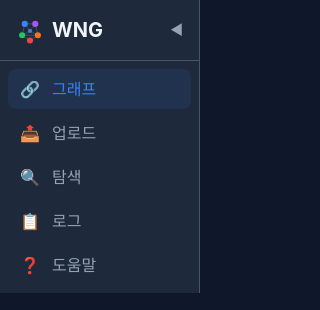
Test: Sidebar › collapses when toggle button is clicked
Click the button named "메뉴 접기" at (177, 30), box 170,20 -> 183,40
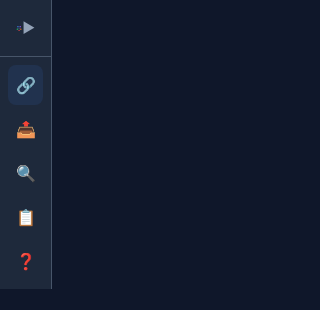
Expected: the text "🔗" is shown, 16,73 -> 36,97
Expected: the heading "WNG" is gone
Expected: the text "그래프" is gone
